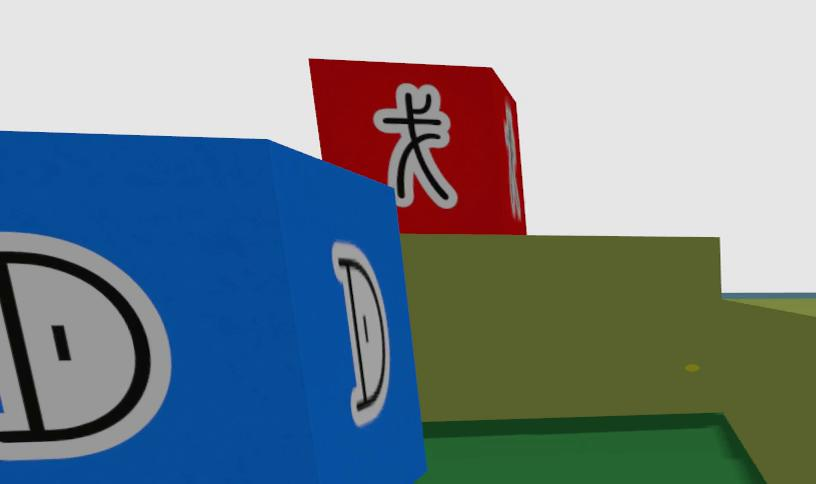KFS_FAKE: (374, 83, 457, 208), (187, 83, 228, 208)
KFS_REAL: (331, 242, 389, 425), (51, 325, 70, 360)
